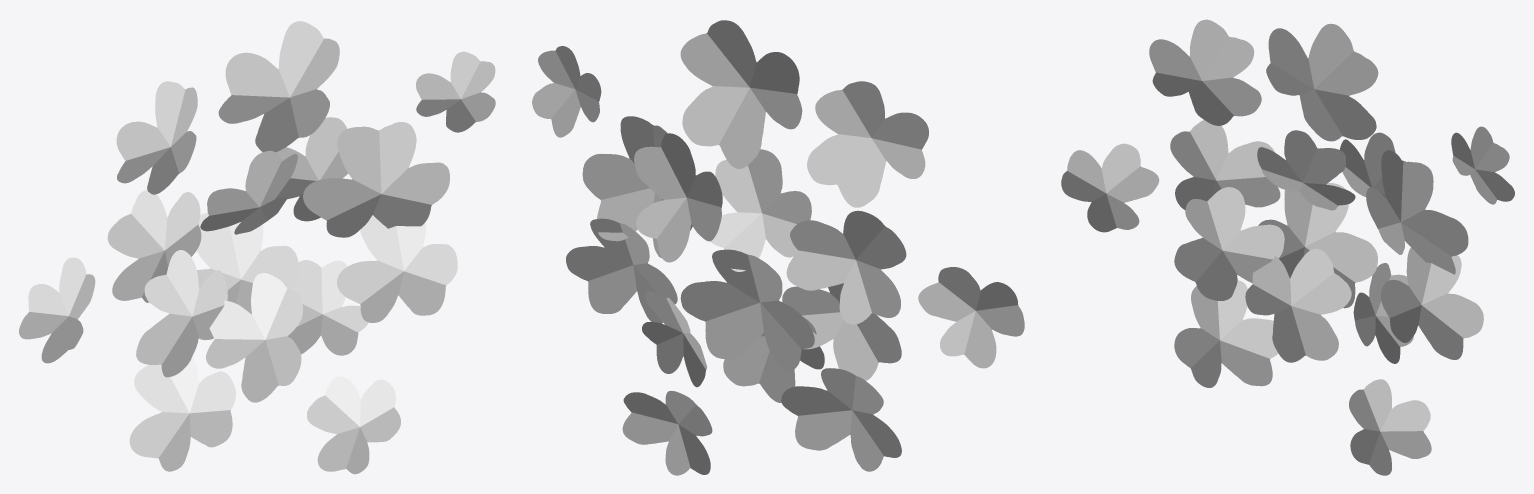
Rendered from clover patch xrotate.fbx.
3 views of the same model, side by side, from view 1: azimuth 30°, elevation 25°; view 2: azimuth 150°, elevation 25°; view 3: azimuth 330°, elevation 25° (orthographic). The views are drawn at different scales.
Parts seen in each view (by area): view 1: clover.020; view 2: clover.020; view 3: clover.020.
Boxes of the visible parts, left/top/right/bottom form: clover.020: left=19, top=21, right=495, bottom=474; clover.020: left=532, top=20, right=1024, bottom=475; clover.020: left=1061, top=19, right=1514, bottom=475.
Bounding box in the file's own units: 66.66 × 61.81 × 9.84.
